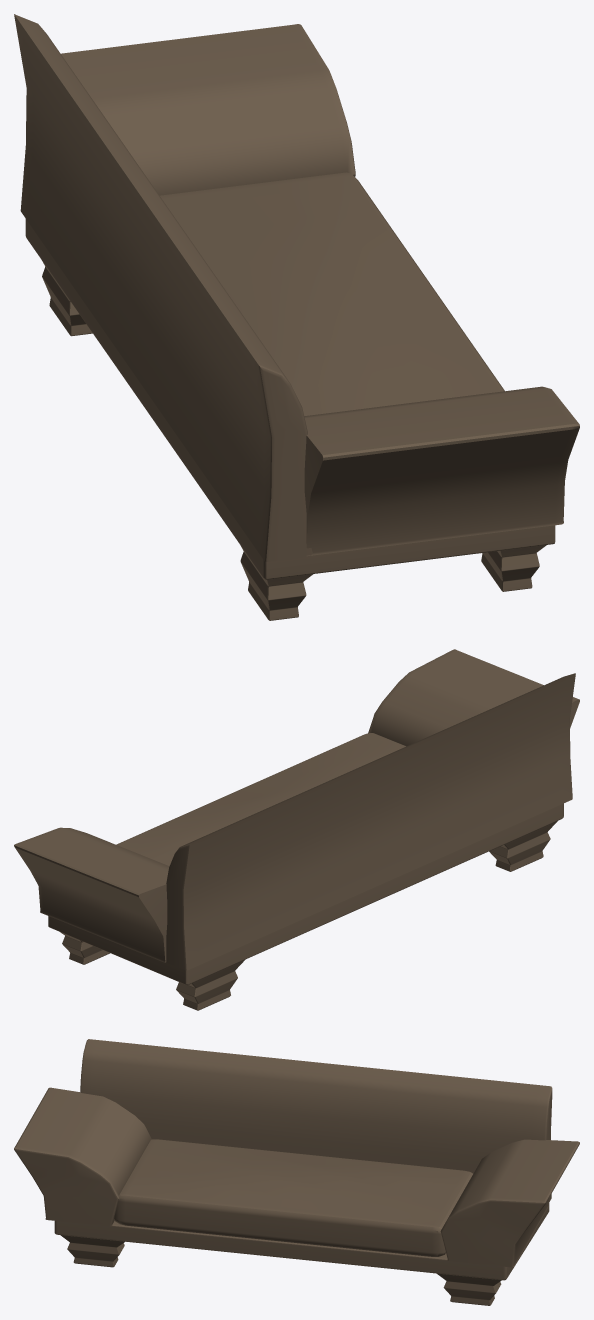
Rendered from sofa.fbx.
3 renders of one model, top to bottom at view 1: azimuth 30°, elevation 25°; view 2: azimuth 150°, elevation 25°; view 3: azimuth 270°, elevation 25°, orthographic. The views are drawn at different scales.
Visible parts, largest first — view 1: sofa; view 2: sofa; view 3: sofa.
Part boxes in pixels (x1,y1,x2,y2): sofa: (14,14,579,620); sofa: (14,649,579,1010); sofa: (14,1039,579,1305).
Bounding box in the file's own units: 50 × 29.29 × 97.33.
